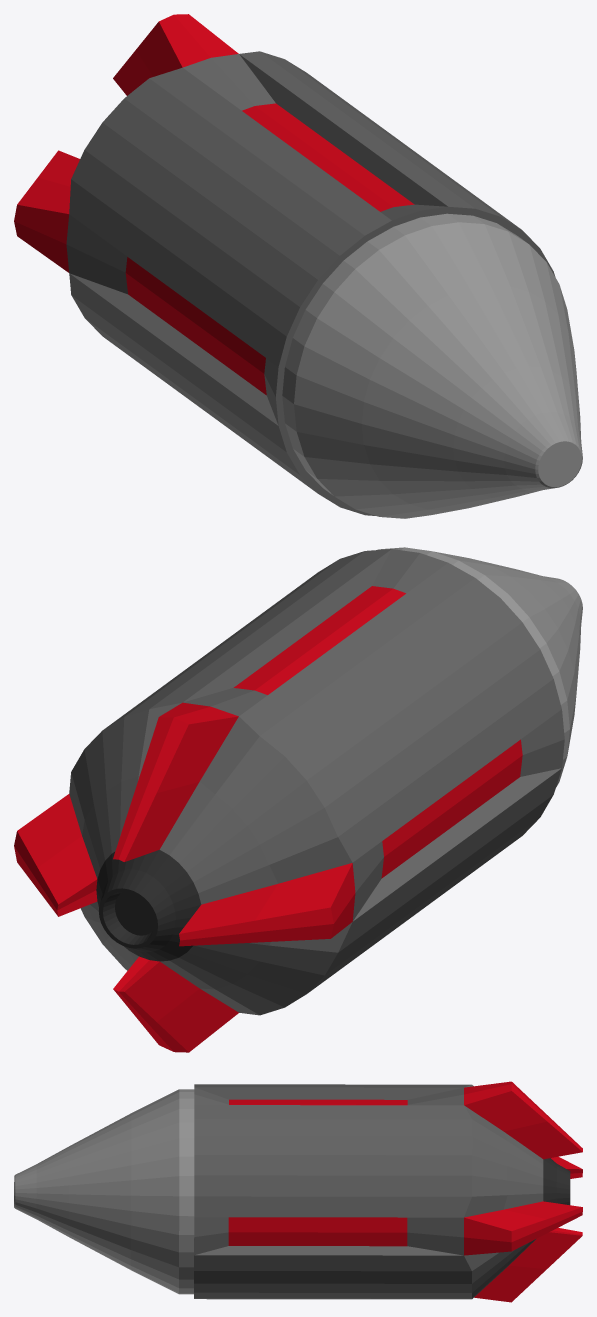
The model's file is rocket.fbx.
The picture shows the model from 3 angles, top to bottom: view 1: azimuth 30°, elevation 25°; view 2: azimuth 150°, elevation 25°; view 3: azimuth 270°, elevation 25°; orthographic projection. The views are drawn at different scales.
Parts seen in each view (by area): view 1: Cylinder; view 2: Cylinder; view 3: Cylinder.
Part boxes in pixels (x1=…): Cylinder: x1=14, y1=14, x2=582, y2=518; Cylinder: x1=14, y1=547, x2=582, y2=1052; Cylinder: x1=14, y1=1081, x2=582, y2=1302.
Size of the model in its own units: 2.21 by 2.21 by 5.29.
